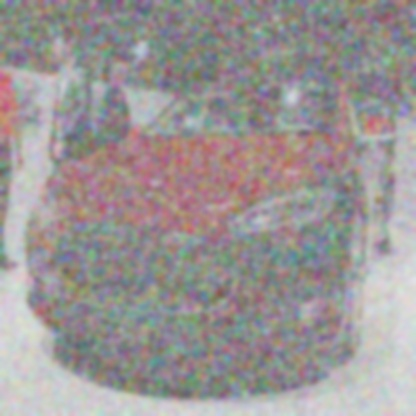Vehicle: (22, 77, 397, 378)
